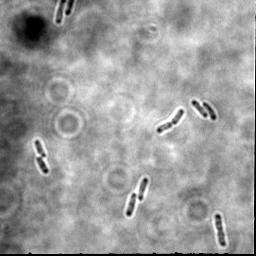Dividing: (155, 107, 185, 135), (213, 212, 228, 248)
Rod: (124, 192, 139, 218), (191, 99, 209, 119), (52, 1, 67, 25), (136, 176, 150, 201), (202, 101, 218, 121), (35, 156, 51, 175), (33, 138, 48, 158)
